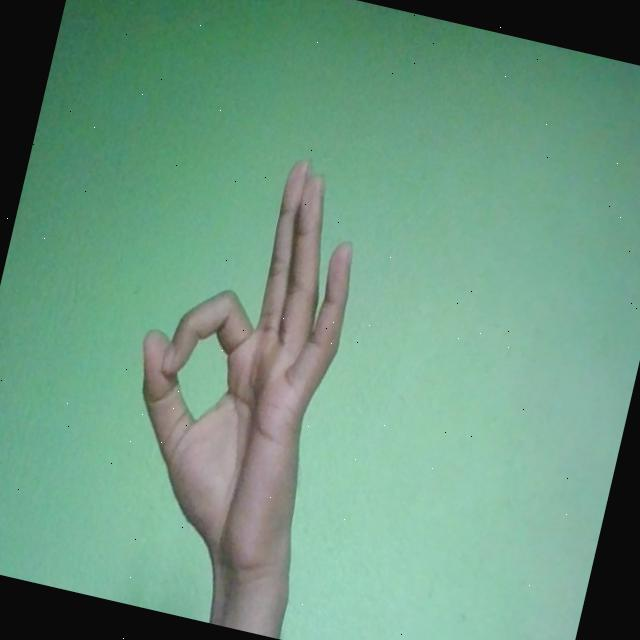Rock On: (94, 127, 380, 586)
